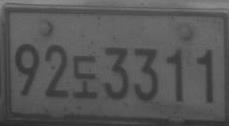1: (165, 48, 191, 102), (196, 49, 220, 104)
2: (43, 43, 68, 98)
3: (133, 47, 160, 100), (104, 46, 130, 99)
9: (13, 42, 40, 96)
도: (72, 54, 98, 98)
